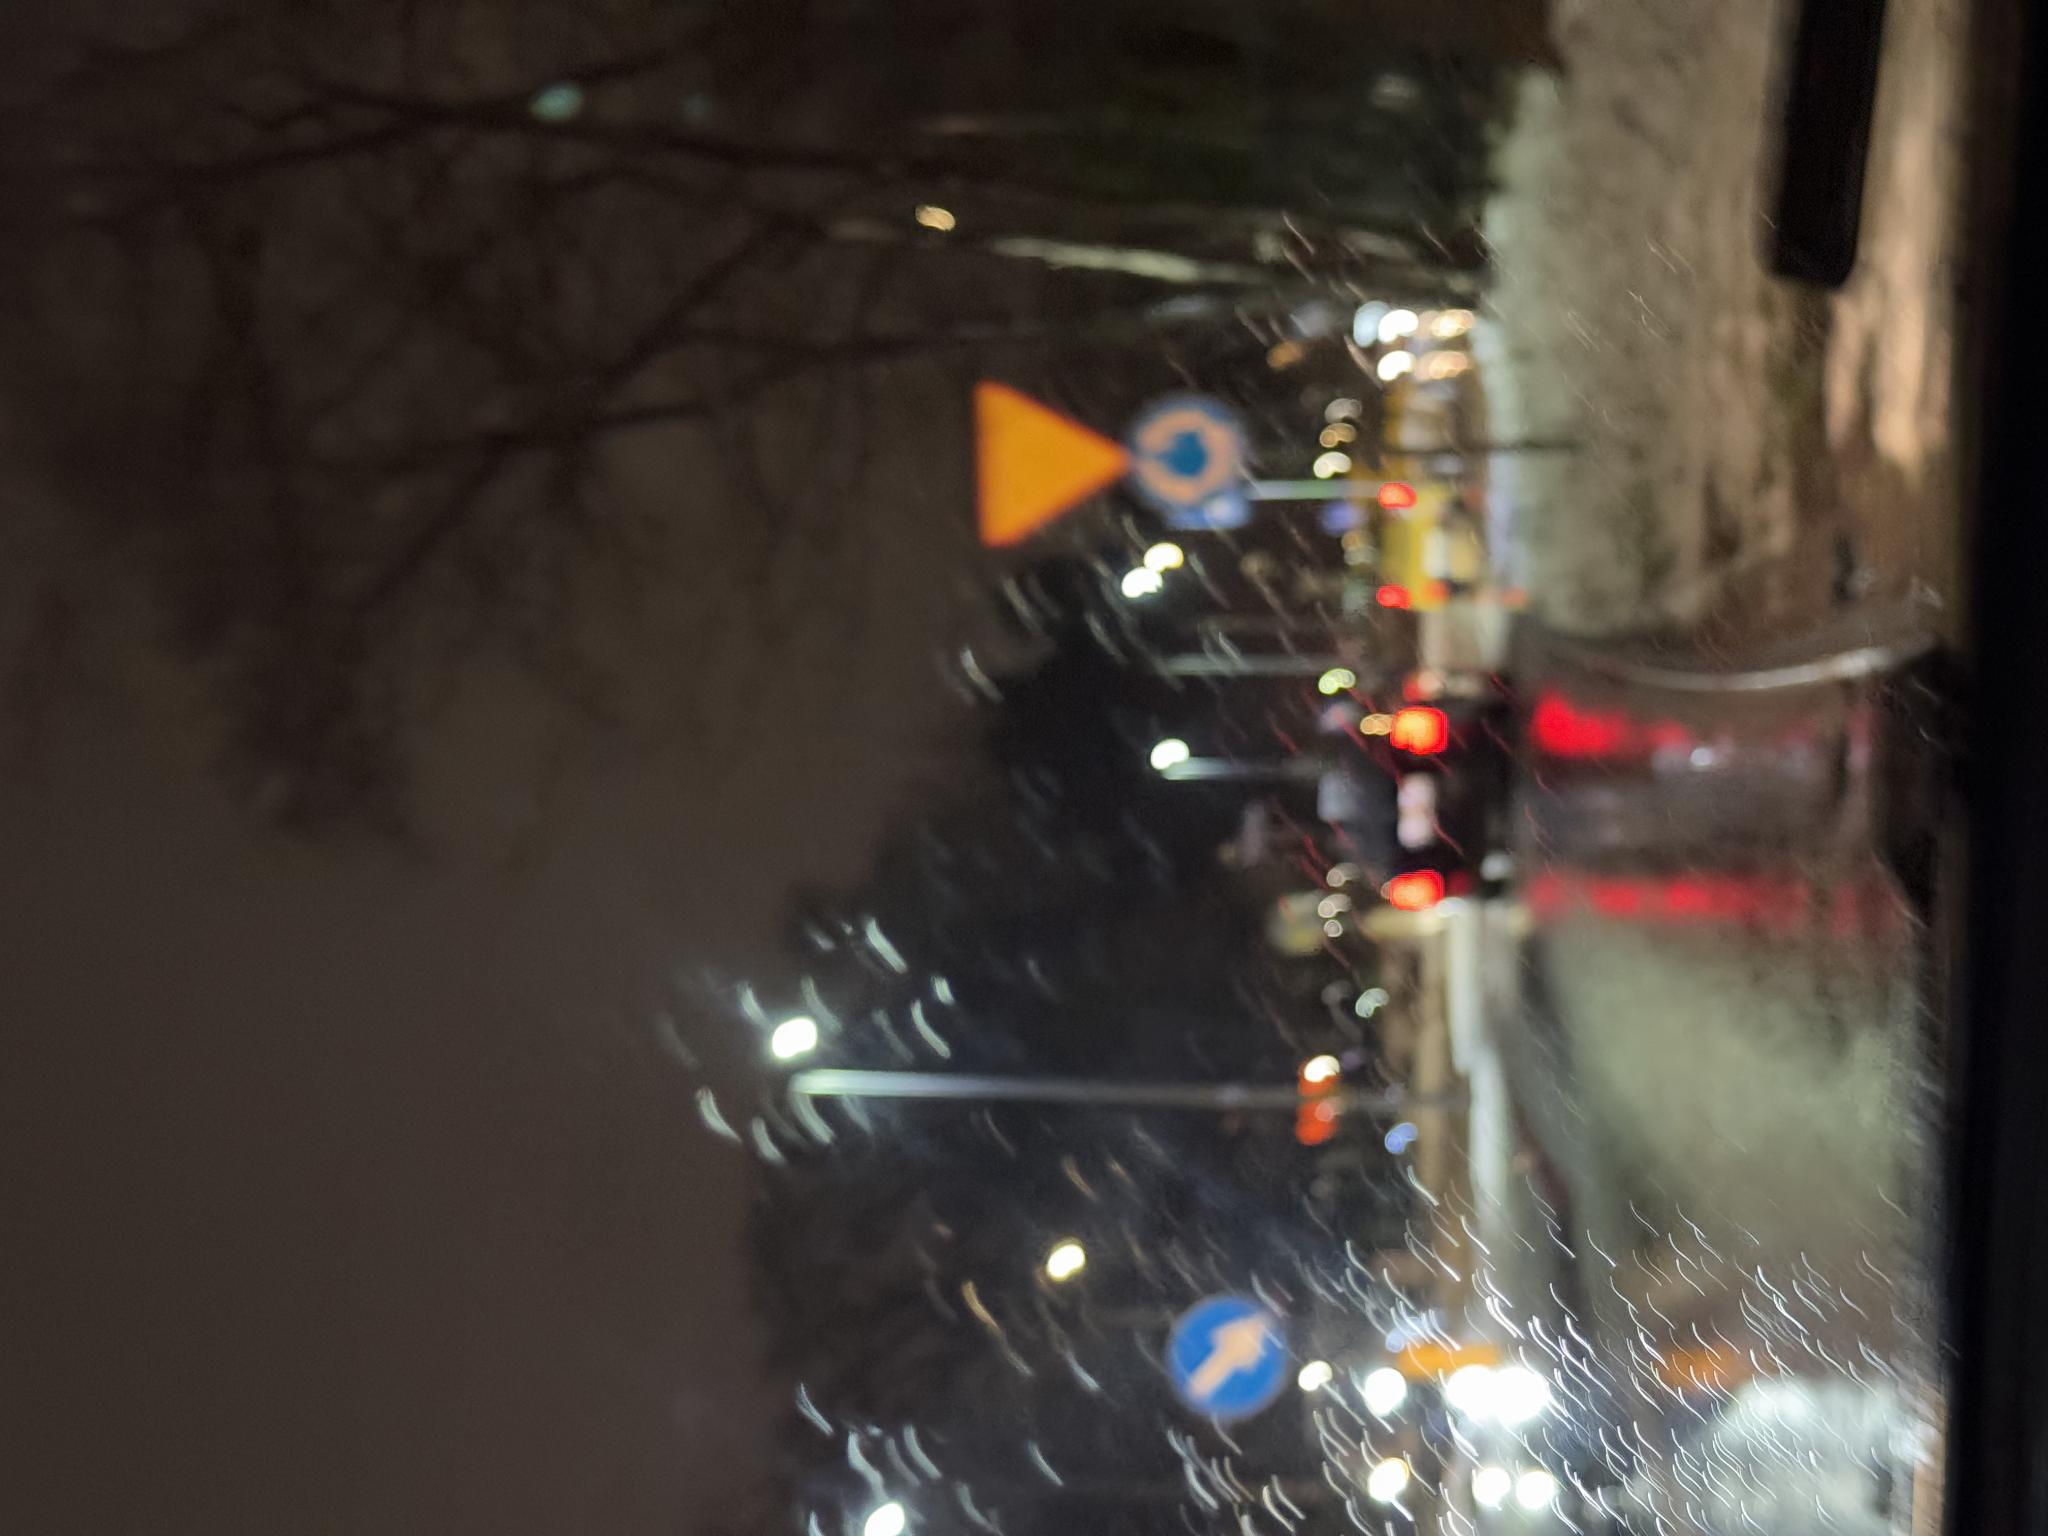mandatory: (117, 1168, 241, 1290), (1024, 1132, 1146, 1248)
warning: (986, 974, 1160, 1134)
